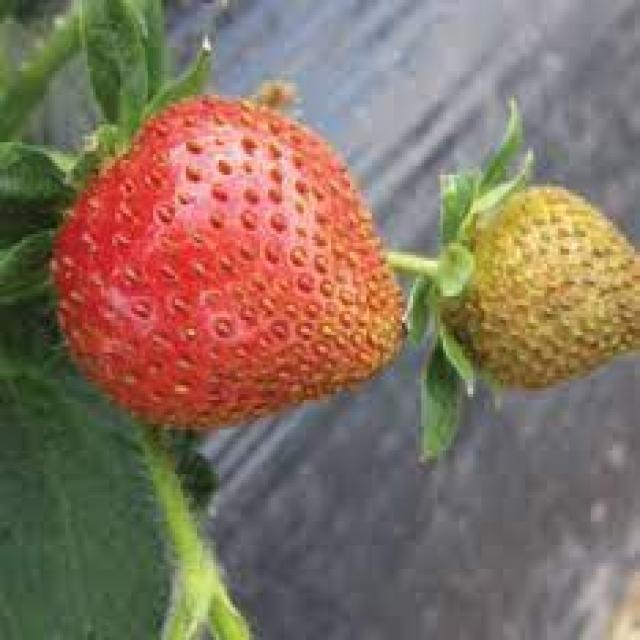Podredumbre de cuero: (24, 98, 410, 416), (453, 167, 640, 399)
